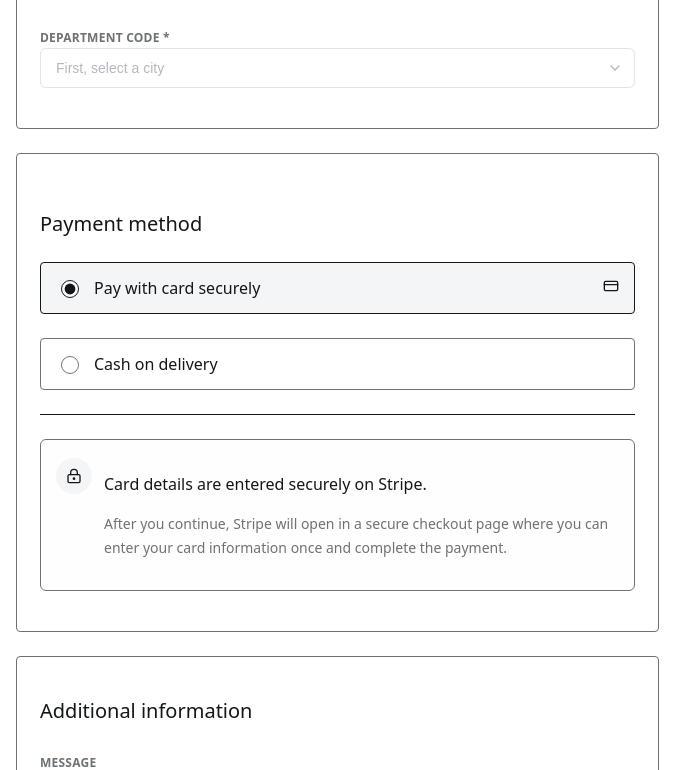
Page: Checkout › shows Stripe info only for card payments and switches CTA copy
(page scrolled)
Expected: the text "Card details are entered securely on Stripe." is shown, x1=104 y1=473 x2=427 y2=495
Click the radio button labelled "Cash on delivery": {"x": 70, "y": 366} x1=61 y1=356 x2=79 y2=374
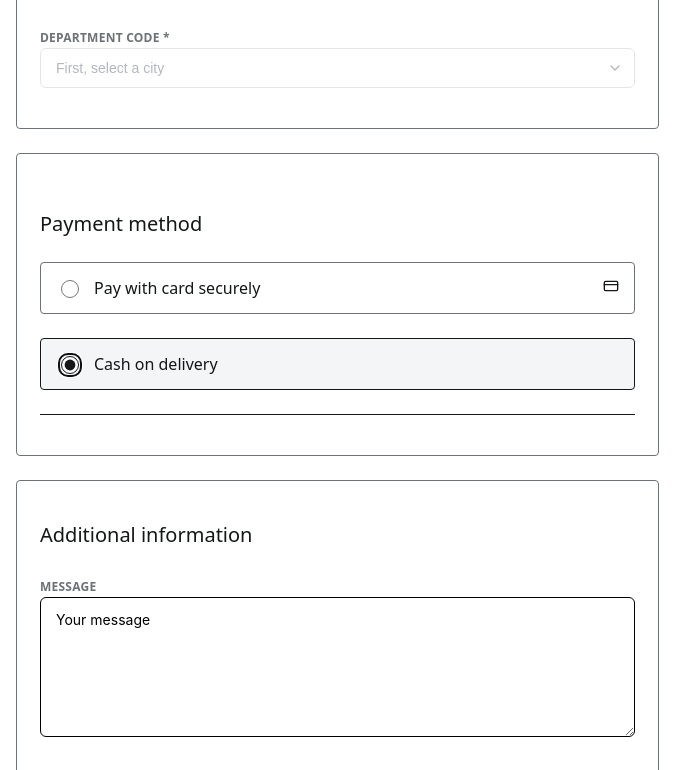
Now the text "Card details are entered securely on Stripe." is gone
Click the radio button labelled "Pay with card securely": {"x": 70, "y": 290} x1=61 y1=280 x2=79 y2=298
(page scrolled)
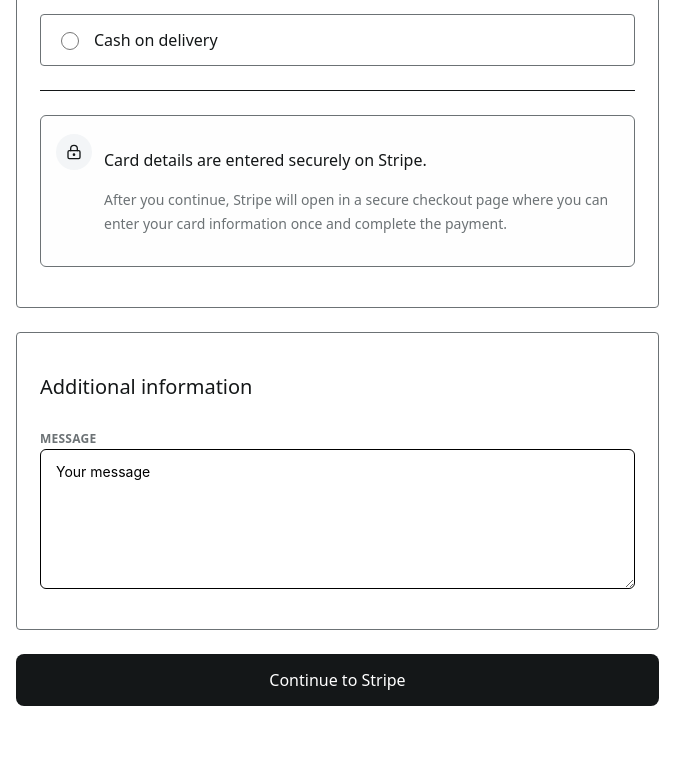
Now the text "Card details are entered securely on Stripe." is shown, box x1=104 y1=149 x2=427 y2=171
Now the button "Continue to Stripe" is shown, box x1=16 y1=654 x2=659 y2=706
